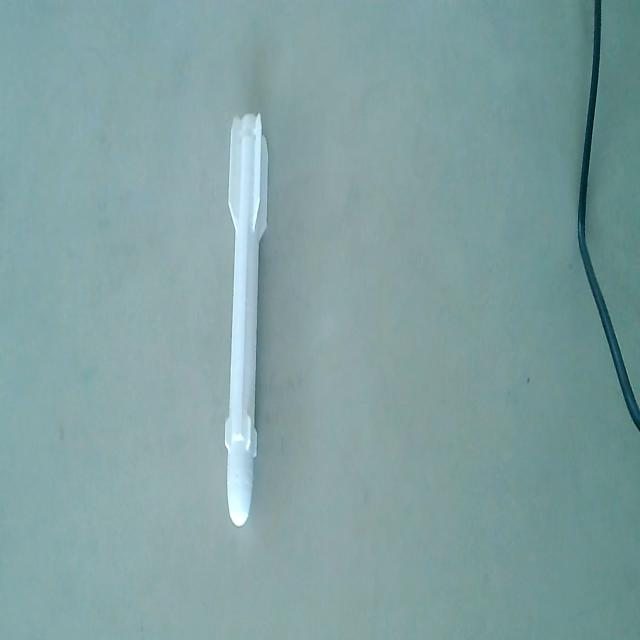Rocket: (220, 110, 270, 534)
